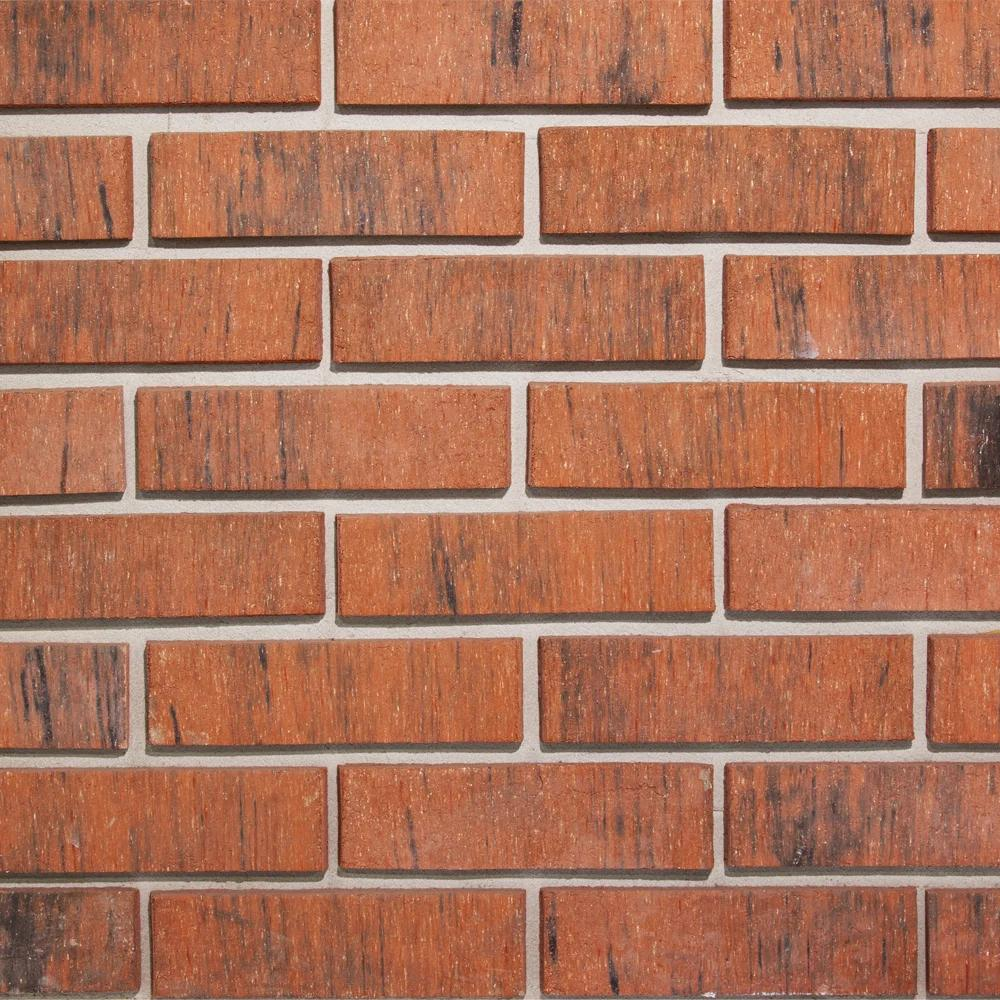Bricks: (528, 382, 895, 494), (156, 638, 520, 747), (544, 634, 919, 739), (342, 766, 707, 872), (344, 252, 706, 358), (346, 0, 707, 105), (154, 898, 520, 1000), (548, 896, 915, 996), (552, 130, 915, 230), (152, 142, 523, 236), (342, 518, 707, 612), (136, 392, 509, 483), (0, 766, 328, 868), (0, 0, 323, 100), (2, 266, 319, 367), (0, 520, 317, 606), (736, 0, 1000, 102), (736, 506, 1000, 604), (734, 770, 1000, 860), (728, 266, 1000, 353), (0, 886, 136, 1000), (0, 644, 125, 756), (8, 386, 131, 497), (0, 138, 130, 241), (922, 388, 1000, 492), (928, 892, 1000, 1000), (934, 632, 1000, 743), (932, 132, 1000, 239)
